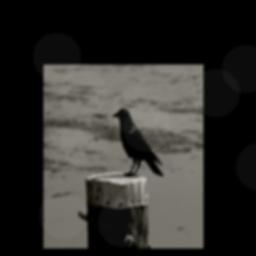Crow: (112, 105, 165, 180)
